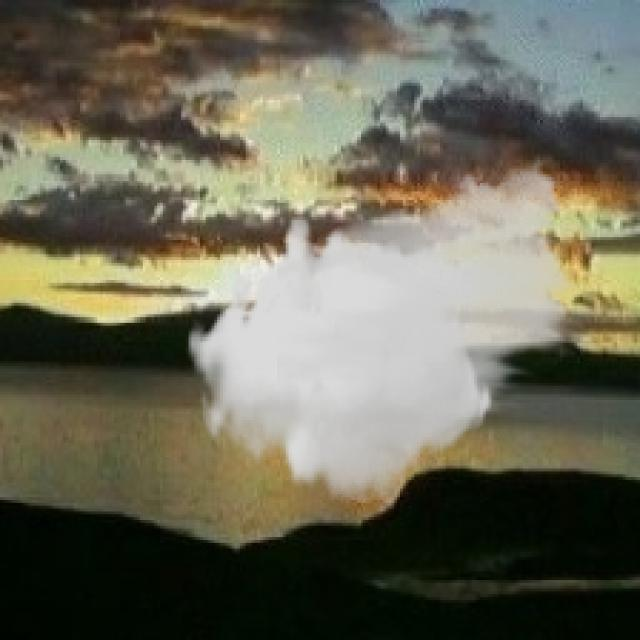Smoke: (185, 151, 586, 503)
